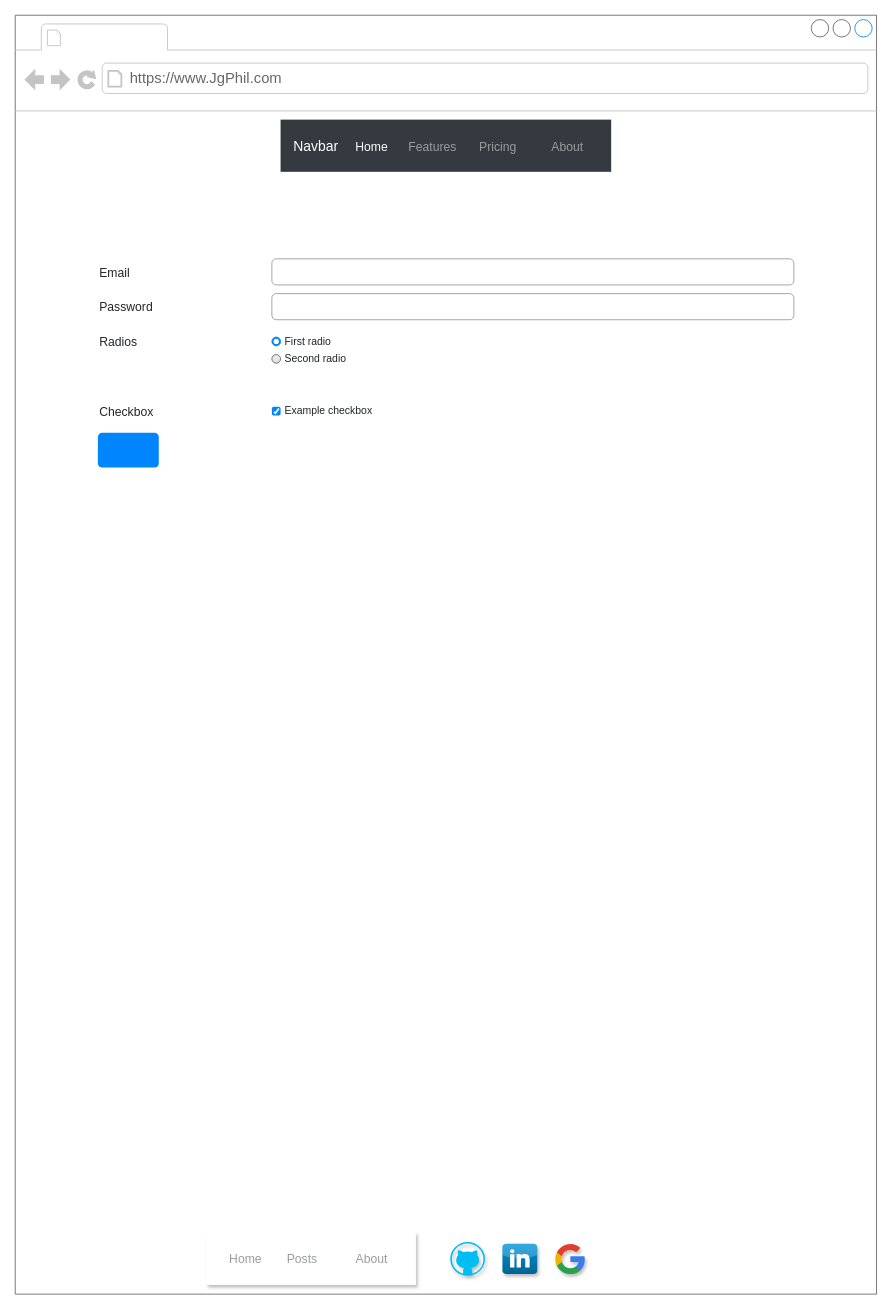
Some shapes in this 892 by 1309 pixel diagram are drawn without their labels. Here are the shapes that lost their labels. From the top down, the centre of each, then its label:
At point 115,36: "Page 1".
At point 127,449: "Sign in".
